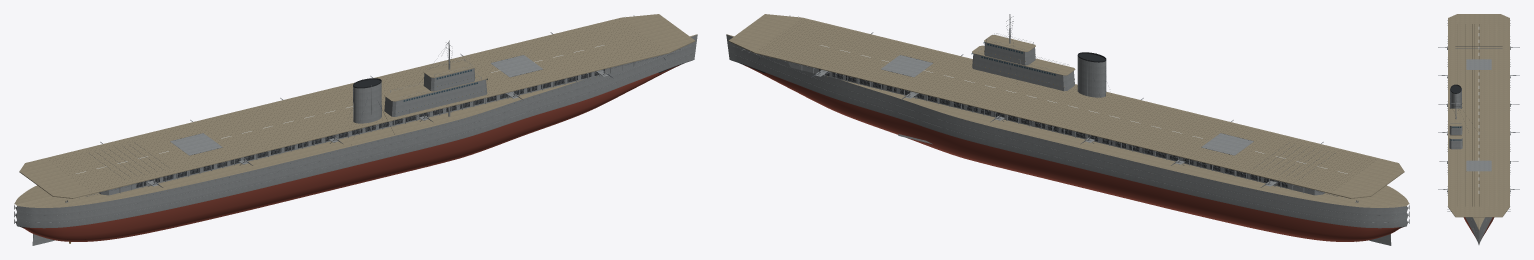
File: ocean_cv38.glb
3 views of the same model, side by side, from view 1: azimuth 30°, elevation 25°; view 2: azimuth 150°, elevation 25°; view 3: azimuth 270°, elevation 25° (orthographic). The views are drawn at different scales.
Visible parts, largest first — view 1: Sovetskaya Aviatsiya carrier; view 2: Sovetskaya Aviatsiya carrier; view 3: Sovetskaya Aviatsiya carrier.
Boxes of the visible parts, <box> form: Sovetskaya Aviatsiya carrier: <box>14,14,697,245</box>; Sovetskaya Aviatsiya carrier: <box>726,14,1409,245</box>; Sovetskaya Aviatsiya carrier: <box>1438,14,1519,244</box>.
Size of the model in its own units: 263 by 45.58 by 42.1.
Materials: 8 (2 with a texture image).
